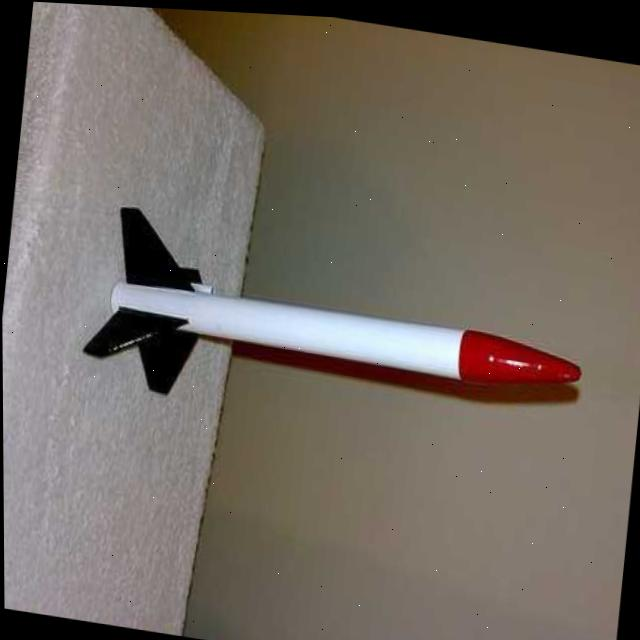missile: (99, 210, 596, 442)
